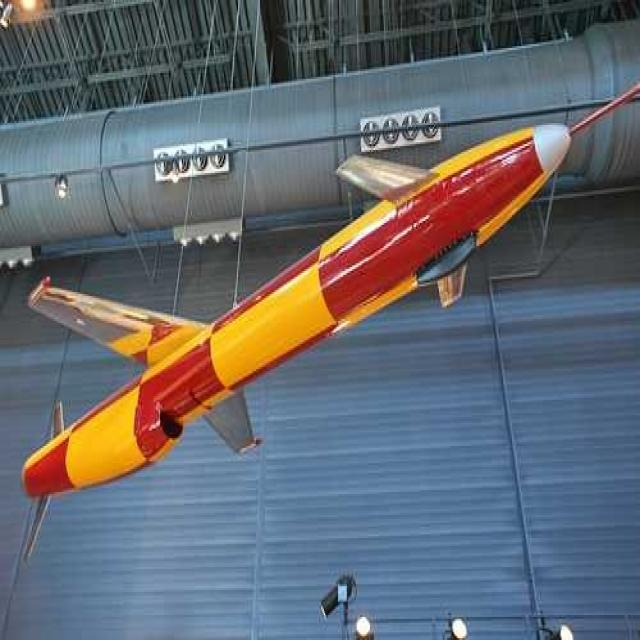missile: (26, 122, 578, 560)
